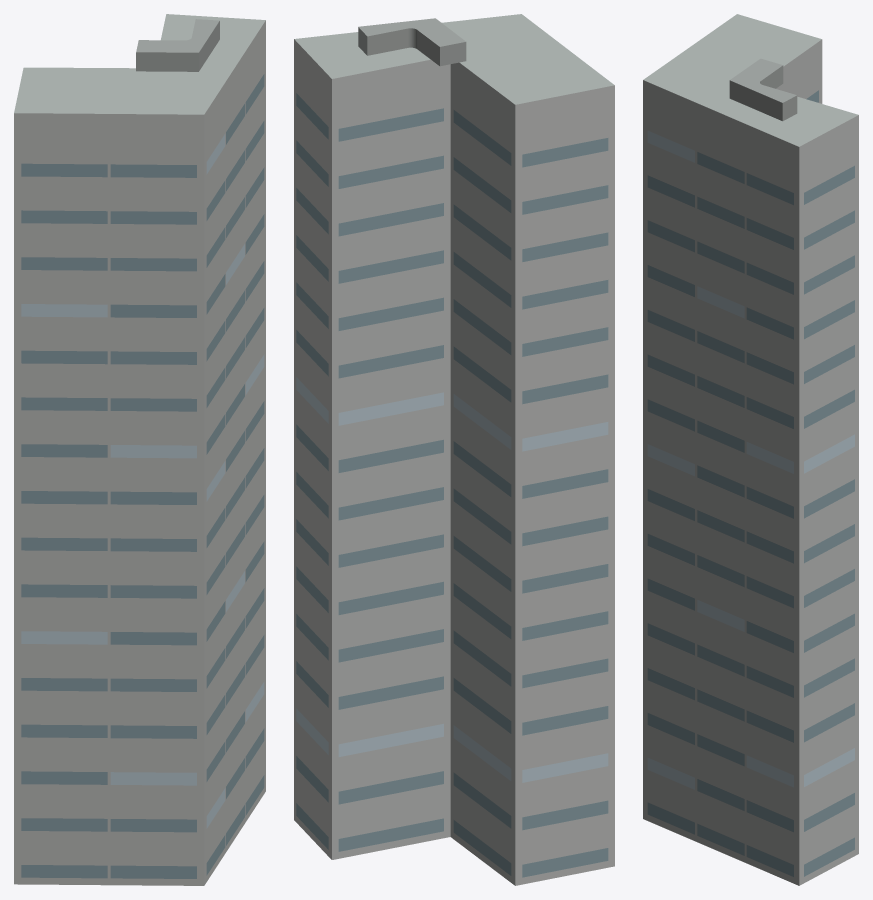
The model's file is fallback-jamsil-ricenz-202.glb.
3 renders of one model, left to right at view 1: azimuth 30°, elevation 25°; view 2: azimuth 150°, elevation 25°; view 3: azimuth 270°, elevation 25°, orthographic. The views are drawn at different scales.
Parts seen in each view (by area): view 1: fallback-jamsil-ricenz-202; view 2: fallback-jamsil-ricenz-202; view 3: fallback-jamsil-ricenz-202.
Boxes of the visible parts, x1=… form: fallback-jamsil-ricenz-202: x1=14, y1=14, x2=265, y2=885; fallback-jamsil-ricenz-202: x1=294, y1=14, x2=614, y2=885; fallback-jamsil-ricenz-202: x1=643, y1=14, x2=858, y2=885.
Bounding box in the file's own units: 37.27 × 99 × 25.58.
